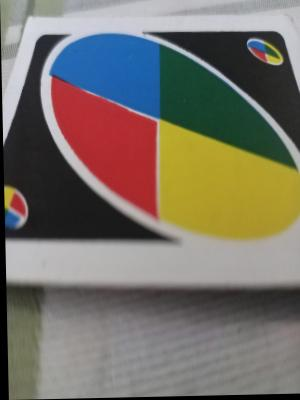wild: (29, 25, 298, 259), (235, 35, 288, 77)
